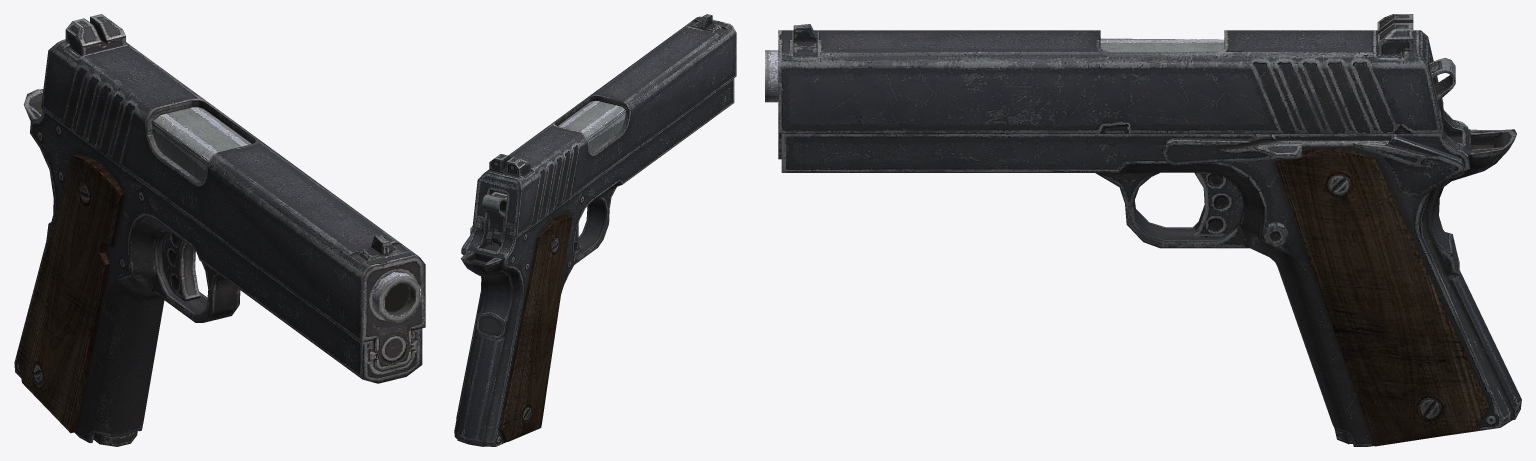
The model's file is pistol.glb.
3 renders of one model, left to right at view 1: azimuth 30°, elevation 25°; view 2: azimuth 150°, elevation 25°; view 3: azimuth 270°, elevation 25°, orthographic. The views are drawn at different scales.
Visible parts, largest first — view 1: base, slide, trigger, mag; view 2: base, slide, hammer; view 3: base, slide, trigger, hammer.
Boxes of the visible parts, x1,y1,x2,y2 form: base: [14, 89, 422, 442]; slide: [41, 14, 425, 371]; trigger: [161, 231, 200, 301]; mag: [93, 430, 137, 446]; base: [454, 78, 734, 446]; slide: [472, 14, 736, 237]; hammer: [482, 191, 507, 246]; base: [765, 38, 1521, 446]; slide: [778, 14, 1443, 159]; trigger: [1193, 172, 1243, 237]; hammer: [1430, 58, 1455, 127].
Bounding box in the file's own units: 4.33 × 17.88 × 29.58.
1 material, 1 textured.
